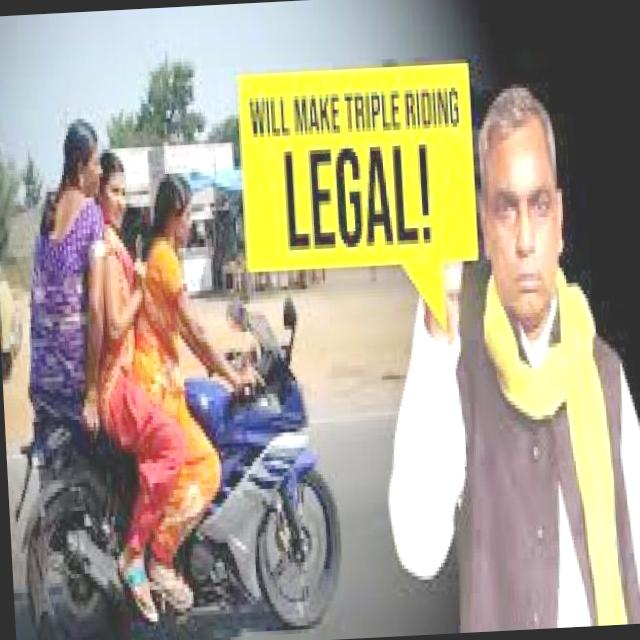motorcycle: (14, 281, 328, 640)
person: (23, 108, 150, 496), (136, 162, 246, 526), (81, 143, 172, 467)
rider_region: (4, 87, 351, 640)
